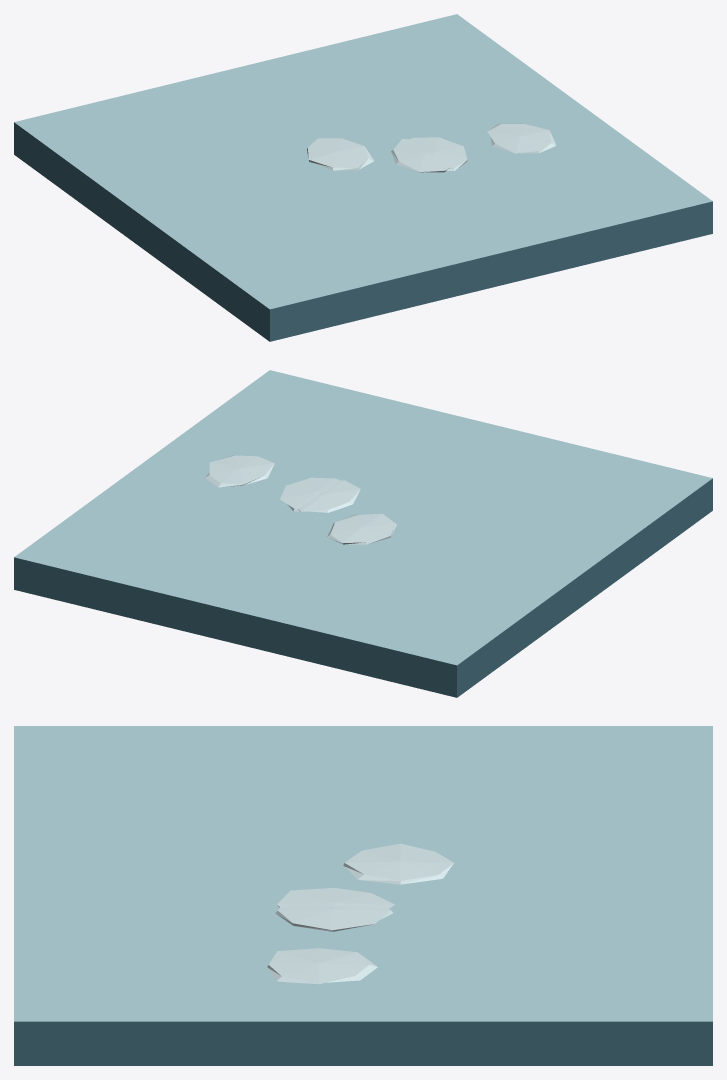
File: ICE_05_FrostedIceTile.glb
3 views of the same model, one above another, from view 1: azimuth 30°, elevation 25°; view 2: azimuth 150°, elevation 25°; view 3: azimuth 270°, elevation 25° (orthographic). The views are drawn at different scales.
Parts seen in each view (by area): view 1: ICE_05_FrostedIceTile; view 2: ICE_05_FrostedIceTile; view 3: ICE_05_FrostedIceTile.
Part boxes in pixels (bbox=[...]): ICE_05_FrostedIceTile: bbox=[14, 14, 712, 341]; ICE_05_FrostedIceTile: bbox=[14, 370, 712, 697]; ICE_05_FrostedIceTile: bbox=[14, 726, 712, 1065].
Size of the model in its own units: 4 by 0.306 by 4.
